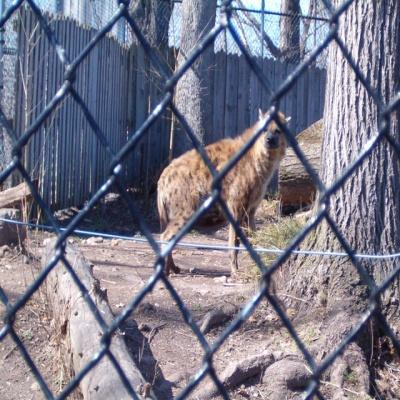hyenas: (142, 81, 356, 292)
